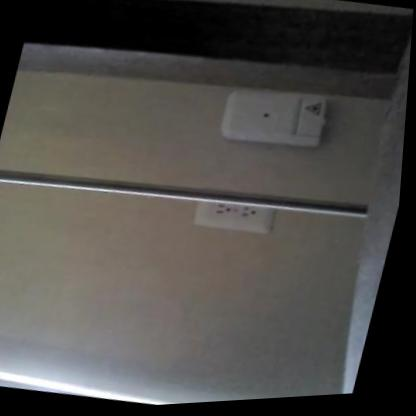OUTLET: (189, 194, 276, 238)
